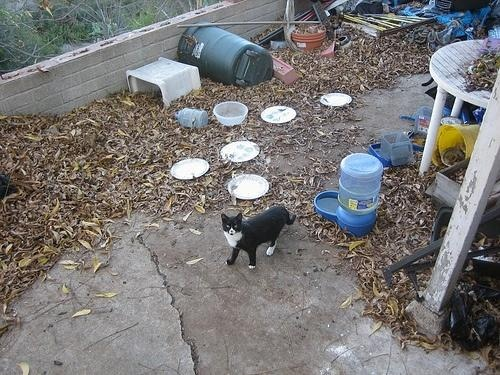cat: (220, 208, 302, 272)
